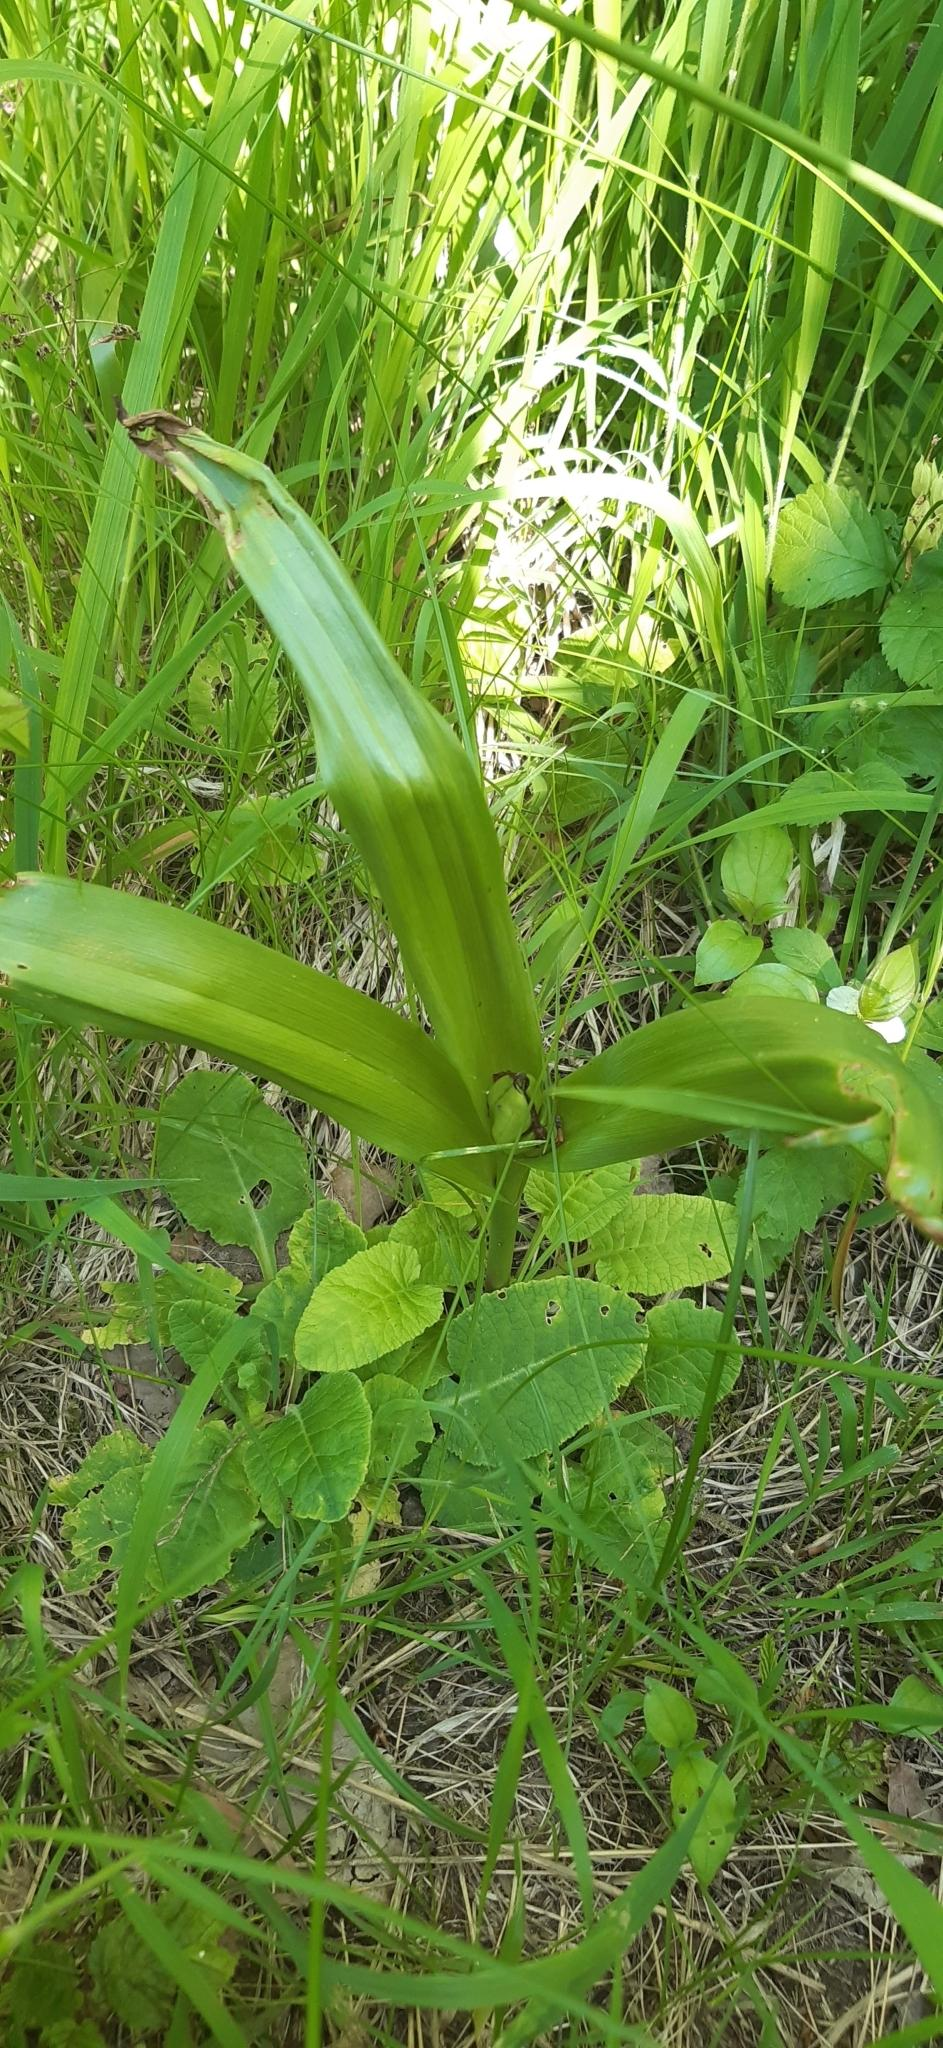Colchicum autumnale L: (10, 402, 943, 1352)
